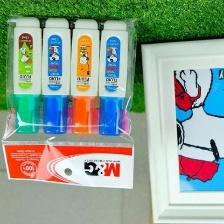correction_fluid: (96, 19, 130, 137), (11, 14, 44, 135), (69, 16, 102, 137), (40, 16, 73, 136)
